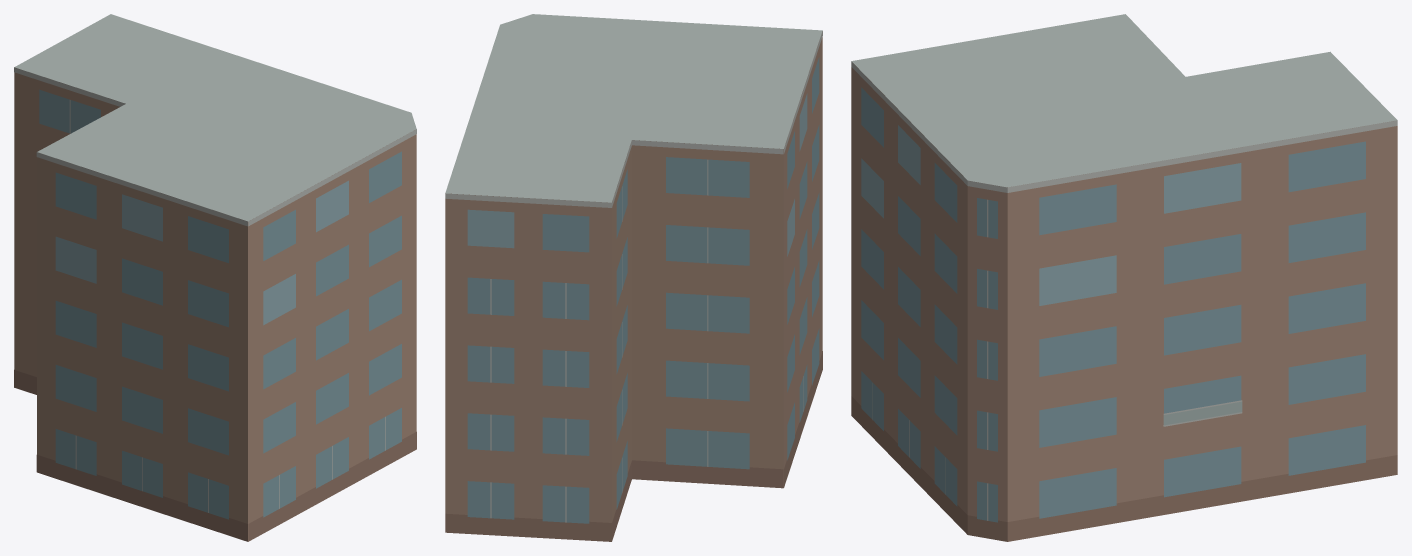
The model's file is survey-upis-32620425.glb.
The picture shows the model from 3 angles, left to right: view 1: azimuth 30°, elevation 25°; view 2: azimuth 150°, elevation 25°; view 3: azimuth 270°, elevation 25°; orthographic projection. The views are drawn at different scales.
Parts seen in each view (by area): view 1: survey-upis-32620425.tmp; view 2: survey-upis-32620425.tmp; view 3: survey-upis-32620425.tmp.
Boxes of the visible parts, left/top/right/bottom form: survey-upis-32620425.tmp: left=14, top=14, right=416, bottom=541; survey-upis-32620425.tmp: left=445, top=14, right=822, bottom=541; survey-upis-32620425.tmp: left=851, top=14, right=1397, bottom=541.
Bounding box in the file's own units: 16.28 × 15.5 × 21.66.
